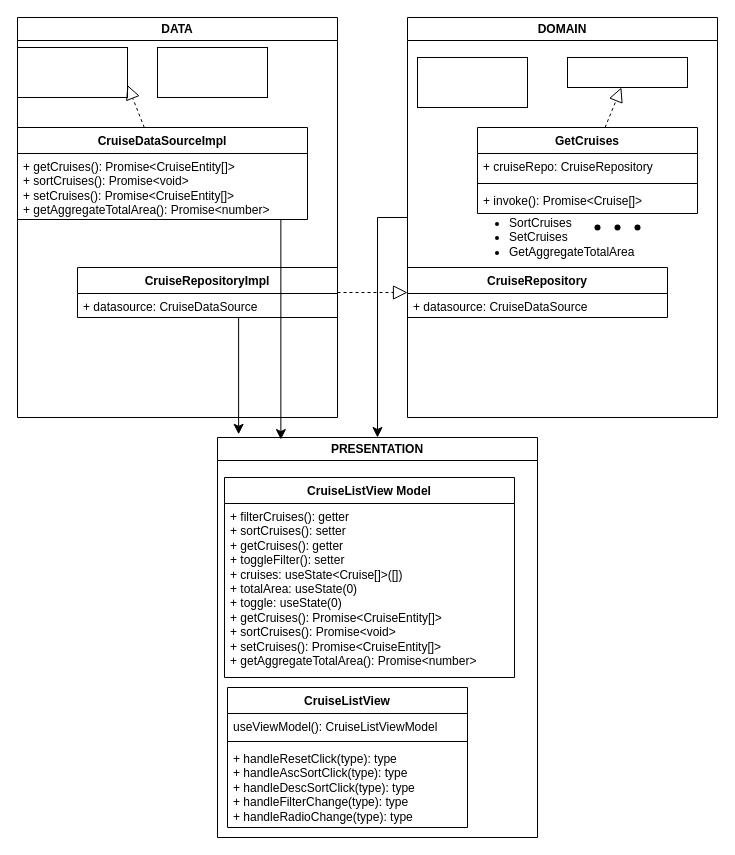
Some shapes in this 735 by 855 pixel diagram are drawn without their labels. The shapes that lost their labels are listed below. From the top down, each one's centre as x and y in pixels, then its label:
the point at 72,72: «interface» CruiseDataSource
the point at 212,72: «interface» CruiseEntity
the point at 472,82: «interface» Cruise
the point at 627,72: «interface» GetCruisesUseCase
